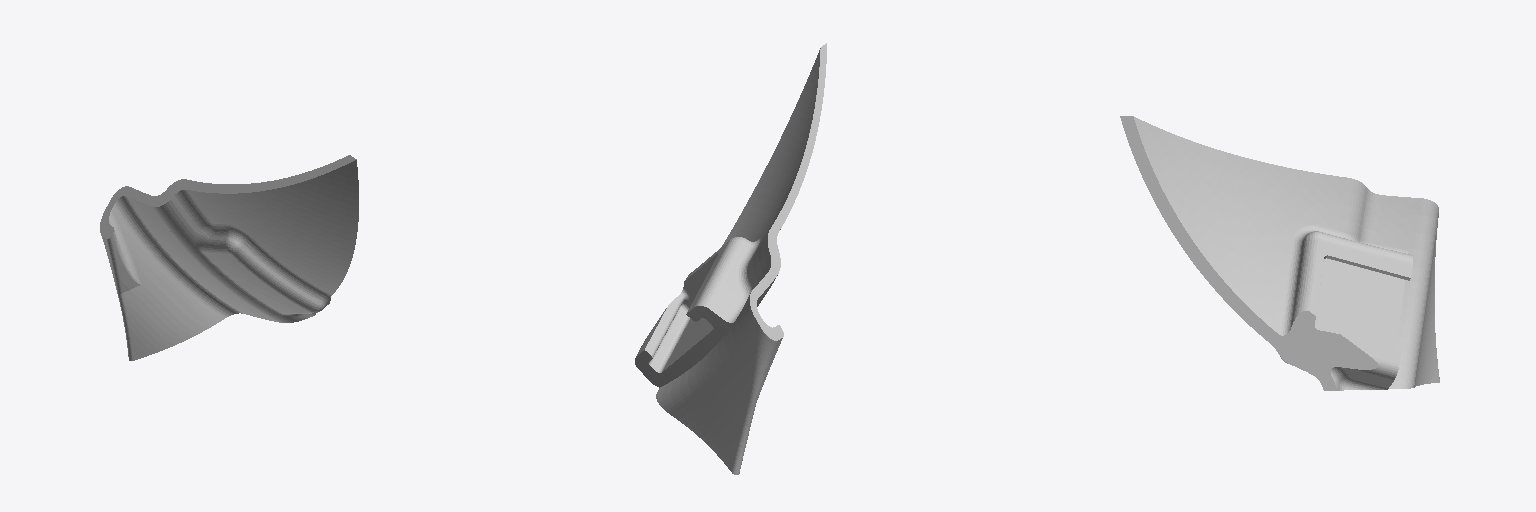
File: Body15.obj
3 views of the same model, side by side, from view 1: azimuth 30°, elevation 25°; view 2: azimuth 150°, elevation 25°; view 3: azimuth 270°, elevation 25° (orthographic).
Visible parts, largest first — view 1: Body15; view 2: Body15; view 3: Body15.
Boxes of the visible parts, x1=… form: Body15: x1=100, y1=155, x2=358, y2=360; Body15: x1=635, y1=43, x2=826, y2=474; Body15: x1=1120, y1=116, x2=1439, y2=390.
Size of the model in its own units: 0.4297 by 0.7475 by 0.7233.